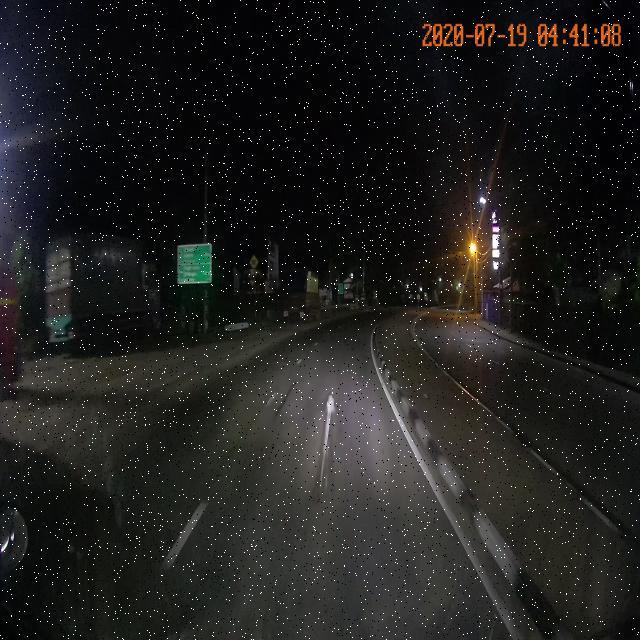forward: (181, 381, 463, 520)
